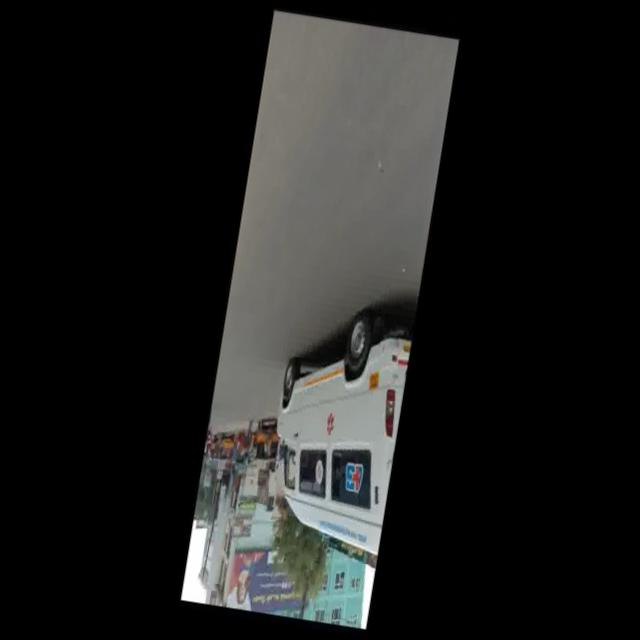ambulance: (253, 292, 418, 578)
